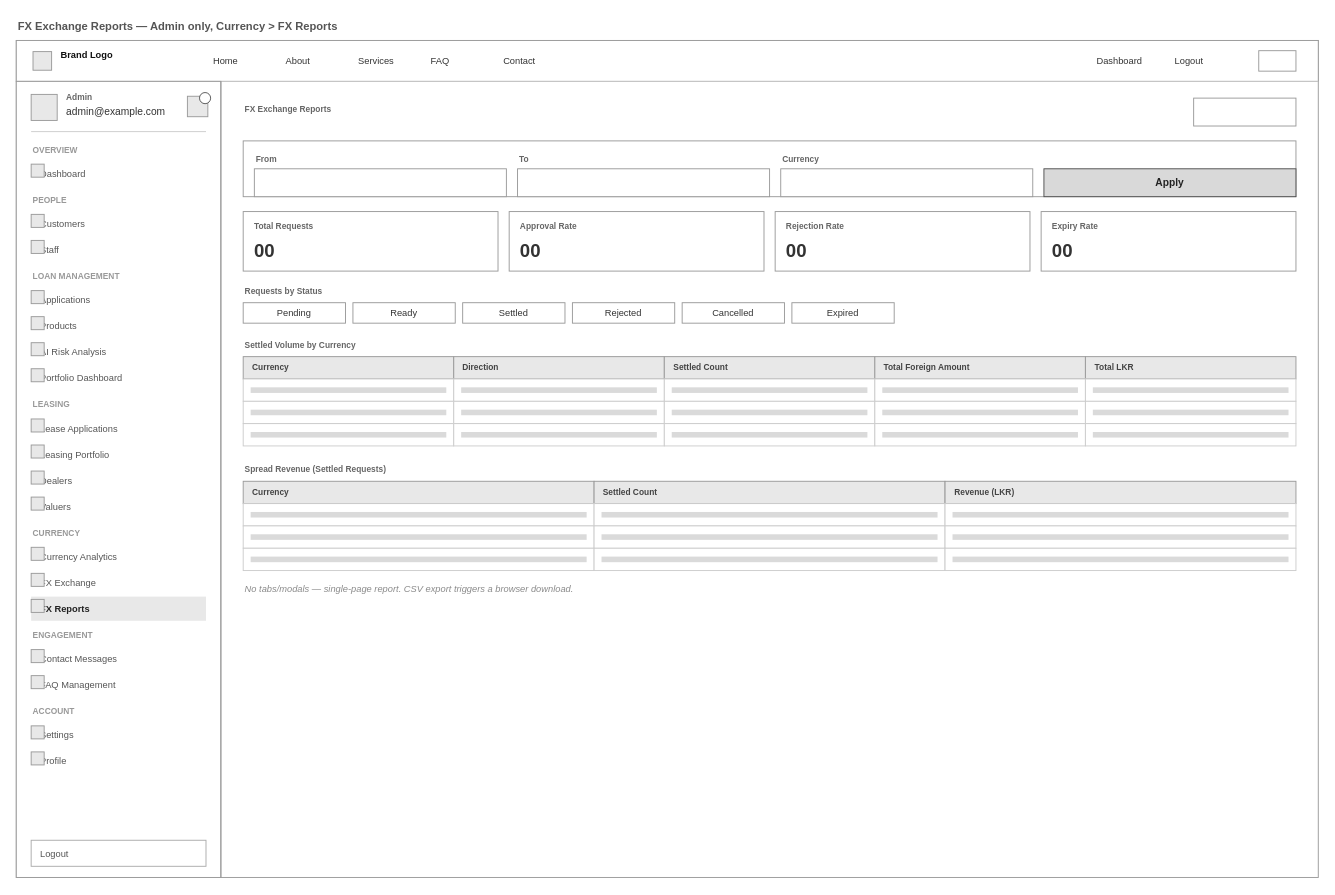
Image size: 1335x895. Some labels were removed from this diagram. The shapes that lost their labels are listed below. From the top down, each one's centre as x and y in pixels, then its label:
At [1277,60]: "EN ▾".
At [1244,111]: "Export CSV".
